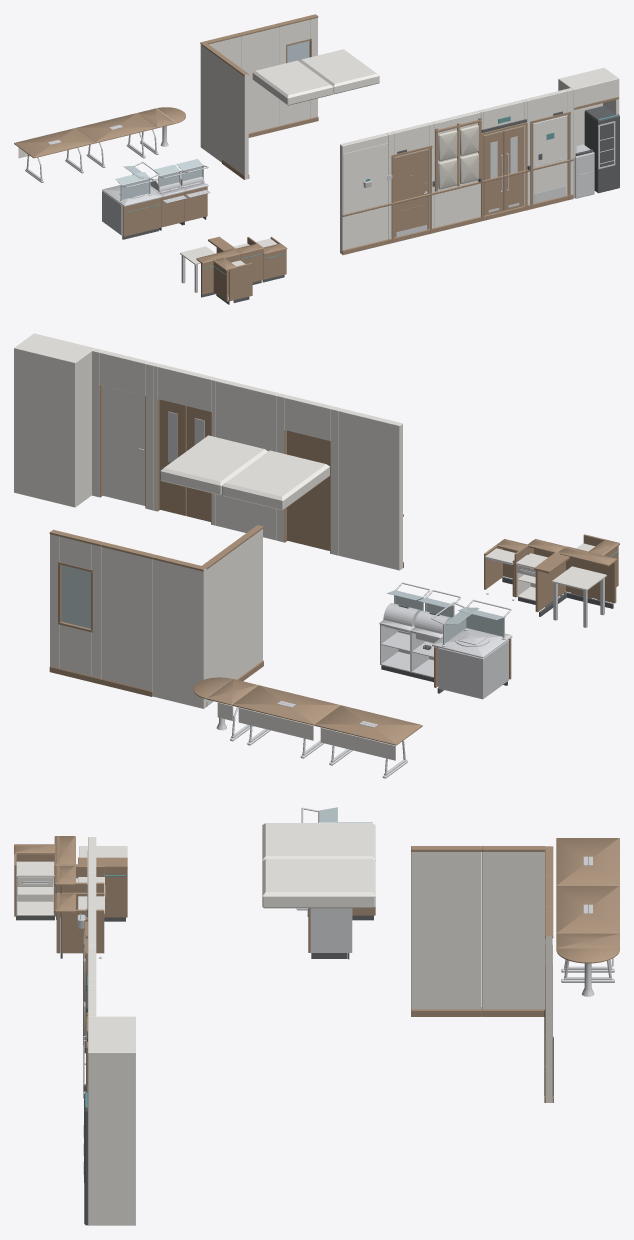
The model's file is hotel-and-resort-operations-connector-cases-de797eaa__25957.glb.
The picture shows the model from 3 angles, top to bottom: view 1: azimuth 30°, elevation 25°; view 2: azimuth 150°, elevation 25°; view 3: azimuth 270°, elevation 25°; orthographic projection. The views are drawn at different scales.
Parts seen in each view (by area): view 1: 000-corridor-wall-module/0, 008-partition-wall-corner/0, 009-partition-wall-module/0, 011-partition-wall-module/0, 001-corridor-door-guest-room/door-guest/surface, 002-corridor-wall-panelled/0, 005-corridor-ice-vending-alcove/0, 005-corridor-ice-vending-alcove/4, 004-corridor-service-door-module/door-service/carcass, 006-corridor-ceiling-raft/0, 002-corridor-wall-panelled/2, 007-corridor-ceiling-raft-slot/0 (+26 smaller); view 2: 005-corridor-ice-vending-alcove/0, 008-partition-wall-corner/0, 000-corridor-wall-module/0, 009-partition-wall-module/0, 002-corridor-wall-panelled/0, 004-corridor-service-door-module/door-service/carcass, 010-partition-wall-glazed/0, 016-buffet-counter-corner/3, 004-corridor-service-door-module/0, 006-corridor-ceiling-raft/0, 011-partition-wall-module/0, 001-corridor-door-guest-room/0 (+22 smaller); view 3: 011-partition-wall-module/0, 005-corridor-ice-vending-alcove/0, 008-partition-wall-corner/0, 007-corridor-ceiling-raft-slot/0, 006-corridor-ceiling-raft/0, 020-conference-table-module/2, 019-conference-table-module/2, 012-check-in-desk-corner/0, 014-check-in-desk-accessible/0, 018-buffet-counter-cold/0, 015-check-in-desk-module/0, 021-conference-table-bow-end/1 (+7 smaller).
Part boxes in pixels (x1,y1,x2,y2): 000-corridor-wall-module/0: (340, 133, 388, 254); 008-partition-wall-corner/0: (200, 36, 240, 162); 009-partition-wall-module/0: (241, 27, 279, 133); 011-partition-wall-module/0: (222, 61, 248, 179); 001-corridor-door-guest-room/door-guest/surface: (394, 149, 428, 237); 002-corridor-wall-panelled/0: (432, 110, 480, 227); 005-corridor-ice-vending-alcove/0: (558, 67, 619, 198); 005-corridor-ice-vending-alcove/4: (575, 106, 619, 193); 004-corridor-service-door-module/door-service/carcass: (533, 115, 566, 203); 006-corridor-ceiling-raft/0: (252, 60, 333, 105); 002-corridor-wall-panelled/2: (438, 125, 478, 189); 007-corridor-ceiling-raft-slot/0: (299, 49, 379, 94); 005-corridor-ice-vending-alcove/0: (14, 333, 94, 507); 008-partition-wall-corner/0: (152, 551, 233, 708); 000-corridor-wall-module/0: (338, 408, 402, 570); 009-partition-wall-module/0: (101, 547, 152, 691); 002-corridor-wall-panelled/0: (215, 378, 279, 540); 004-corridor-service-door-module/door-service/carcass: (102, 385, 145, 505); 010-partition-wall-glazed/0: (50, 534, 101, 678); 016-buffet-counter-corner/3: (431, 599, 512, 699); 004-corridor-service-door-module/0: (92, 348, 156, 510); 006-corridor-ceiling-raft/0: (222, 450, 329, 510); 011-partition-wall-module/0: (233, 529, 262, 679); 001-corridor-door-guest-room/0: (276, 393, 341, 555); 011-partition-wall-module/0: (411, 852, 481, 1009); 005-corridor-ice-vending-alcove/0: (88, 1016, 135, 1225); 008-partition-wall-corner/0: (482, 852, 545, 1009); 007-corridor-ceiling-raft-slot/0: (262, 859, 375, 908); 006-corridor-ceiling-raft/0: (262, 823, 375, 860); 020-conference-table-module/2: (556, 886, 619, 933); 019-conference-table-module/2: (556, 838, 619, 885); 012-check-in-desk-corner/0: (54, 836, 127, 917); 014-check-in-desk-accessible/0: (54, 892, 104, 953); 018-buffet-counter-cold/0: (296, 908, 352, 952); 015-check-in-desk-module/0: (16, 861, 54, 915); 021-conference-table-bow-end/1: (556, 933, 619, 963).
Size of the model in its own units: 11.4 by 2.94 by 8.55.
